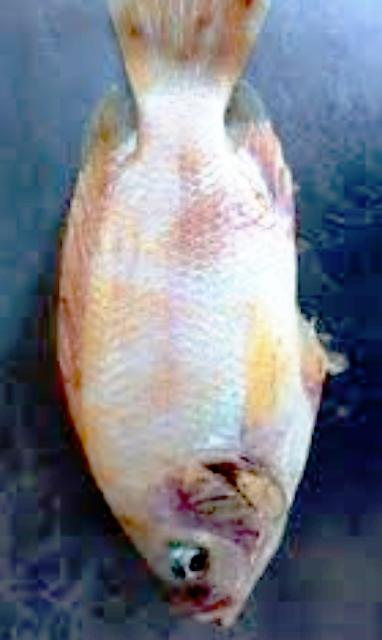Tilapia Lake Virus -TiLV-: (62, 0, 326, 624)
